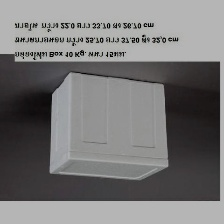foam_box: (44, 67, 173, 186)
